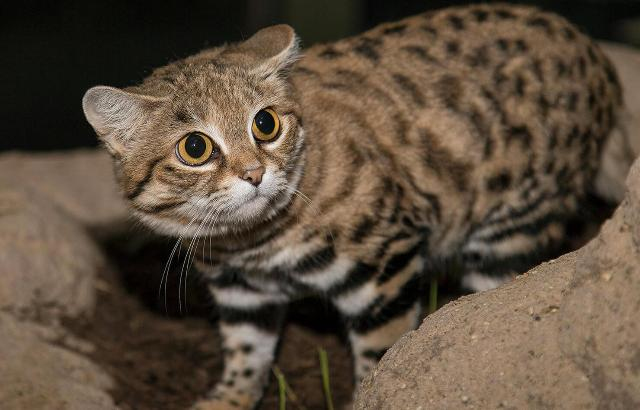cat: (82, 6, 626, 408)
